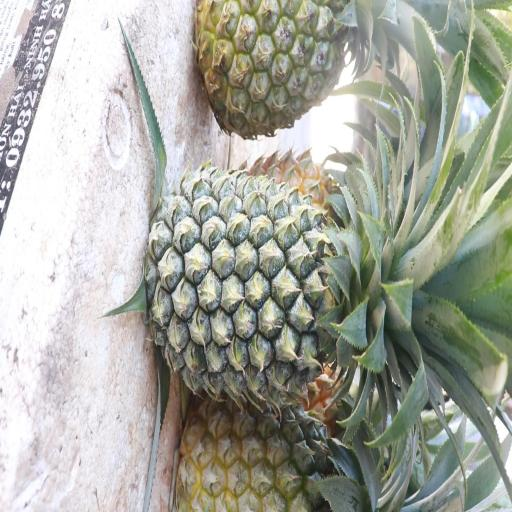------------------------------: (203, 0, 385, 136), (179, 390, 369, 512)
